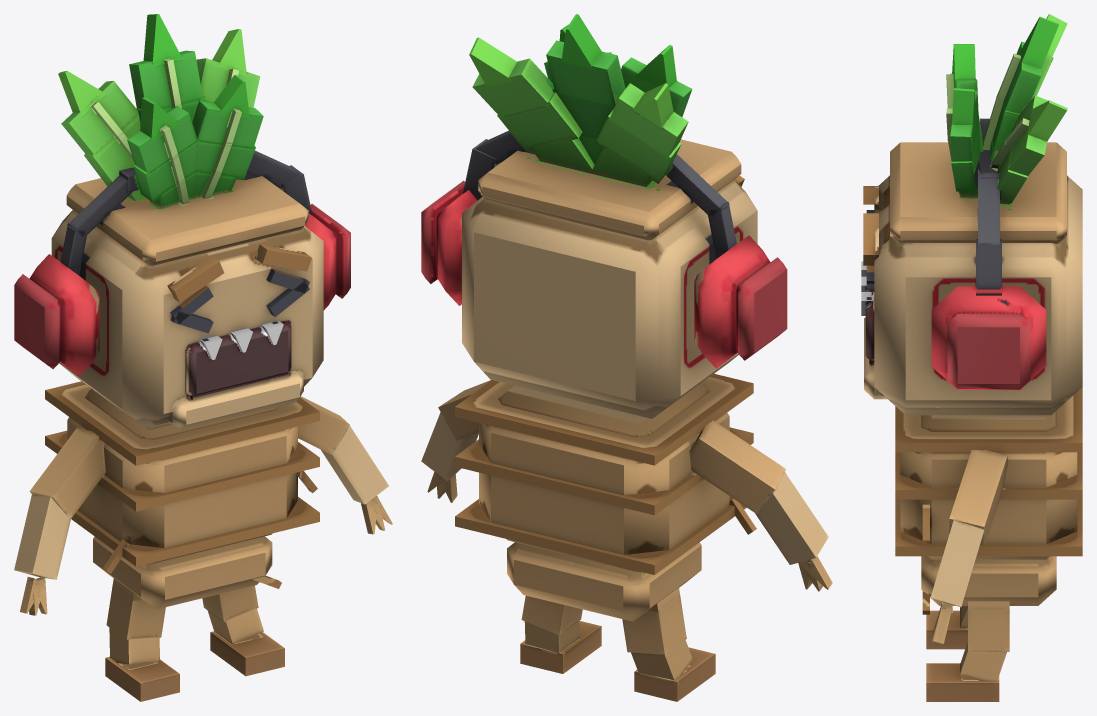
The model's file is MandragoreHurlante_Rig.fbx.
3 renders of one model, left to right at view 1: azimuth 30°, elevation 25°; view 2: azimuth 150°, elevation 25°; view 3: azimuth 270°, elevation 25°, orthographic. The views are drawn at different scales.
Parts seen in each view (by area): view 1: Head, Body, ArmR, LegR, ArmL, LegL, Jaw; view 2: Head, Body, ArmR, LegR, LegL, ArmL; view 3: Head, Body, ArmL, LegL, LegR, Jaw.
Boxes of the visible parts, box(x1,y1,x2,y2) form: Head: box(14, 14, 350, 430); Body: box(45, 381, 319, 609); ArmR: box(14, 427, 105, 615); LegR: box(105, 578, 179, 701); ArmL: box(298, 396, 392, 534); LegL: box(202, 585, 284, 676); Jaw: box(166, 370, 303, 430); Head: box(421, 14, 787, 418); Body: box(455, 373, 756, 621); ArmR: box(689, 420, 832, 591); LegR: box(622, 587, 715, 701); LegL: box(520, 595, 601, 673); ArmL: box(421, 380, 491, 502); Head: box(861, 14, 1082, 415); Body: box(895, 387, 1082, 614); ArmL: box(930, 450, 1007, 643); LegL: box(926, 601, 1009, 701); LegR: box(926, 606, 967, 649); Jaw: box(864, 317, 887, 399).
Size of the model in its own units: 3.68 by 6 by 1.86.
1 material, 1 textured.
